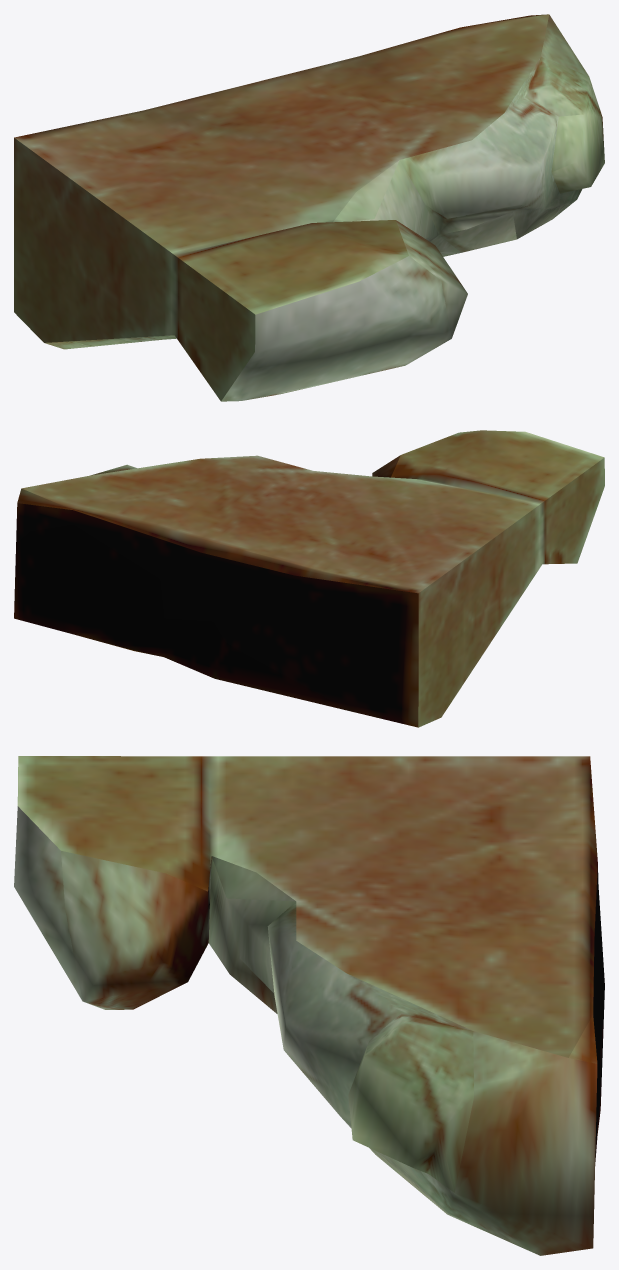
Rendered from Ruins_Trim_Base_DMG_2M_B.fbx.
3 views of the same model, one above another, from view 1: azimuth 30°, elevation 25°; view 2: azimuth 150°, elevation 25°; view 3: azimuth 270°, elevation 25° (orthographic). The views are drawn at different scales.
Visible parts, largest first — view 1: Ruins_Trim_Base_DMG_2M_B; view 2: Ruins_Trim_Base_DMG_2M_B; view 3: Ruins_Trim_Base_DMG_2M_B.
Boxes of the visible parts, <box> form: Ruins_Trim_Base_DMG_2M_B: <box>14,14,604,401</box>; Ruins_Trim_Base_DMG_2M_B: <box>14,430,604,727</box>; Ruins_Trim_Base_DMG_2M_B: <box>14,756,604,1255</box>.
Size of the model in its own units: 250 by 91.79 by 206.
